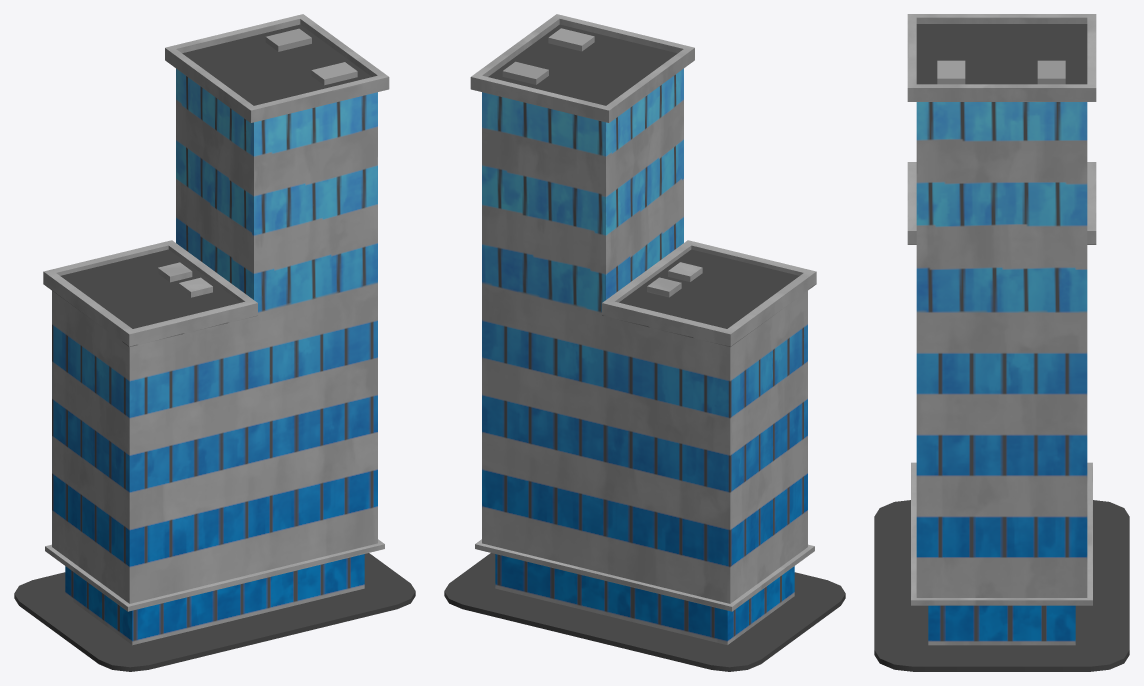
File: Building2Complete.fbx
3 renders of one model, left to right at view 1: azimuth 30°, elevation 25°; view 2: azimuth 150°, elevation 25°; view 3: azimuth 270°, elevation 25°, orthographic. The views are drawn at different scales.
Visible parts, largest first — view 1: Building2; view 2: Building2; view 3: Building2.
Boxes of the visible parts, x1,y1,x2,y2 form: Building2: (14,14,415,671); Building2: (444,14,845,671); Building2: (874,14,1129,671).
Size of the model in its own units: 9.92 by 15.79 by 6.4.
